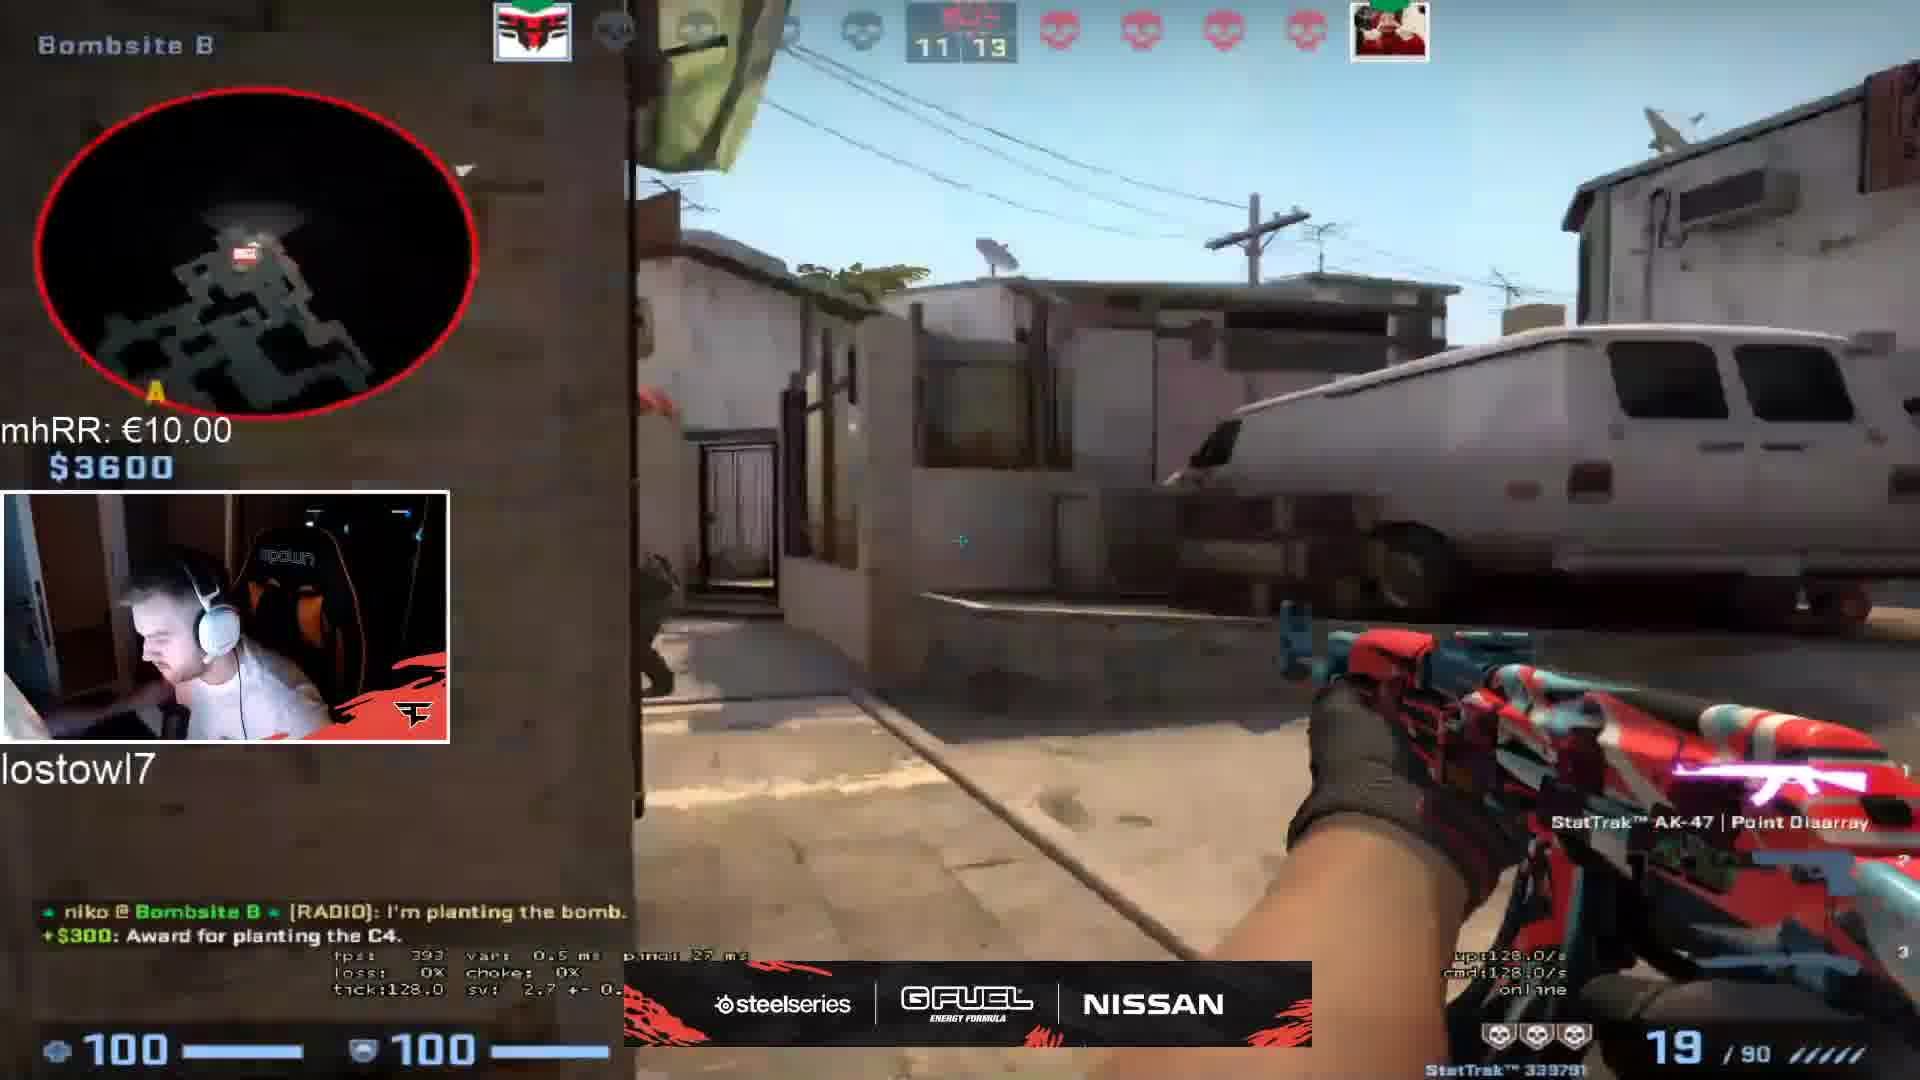enemy: (634, 531, 690, 704)
